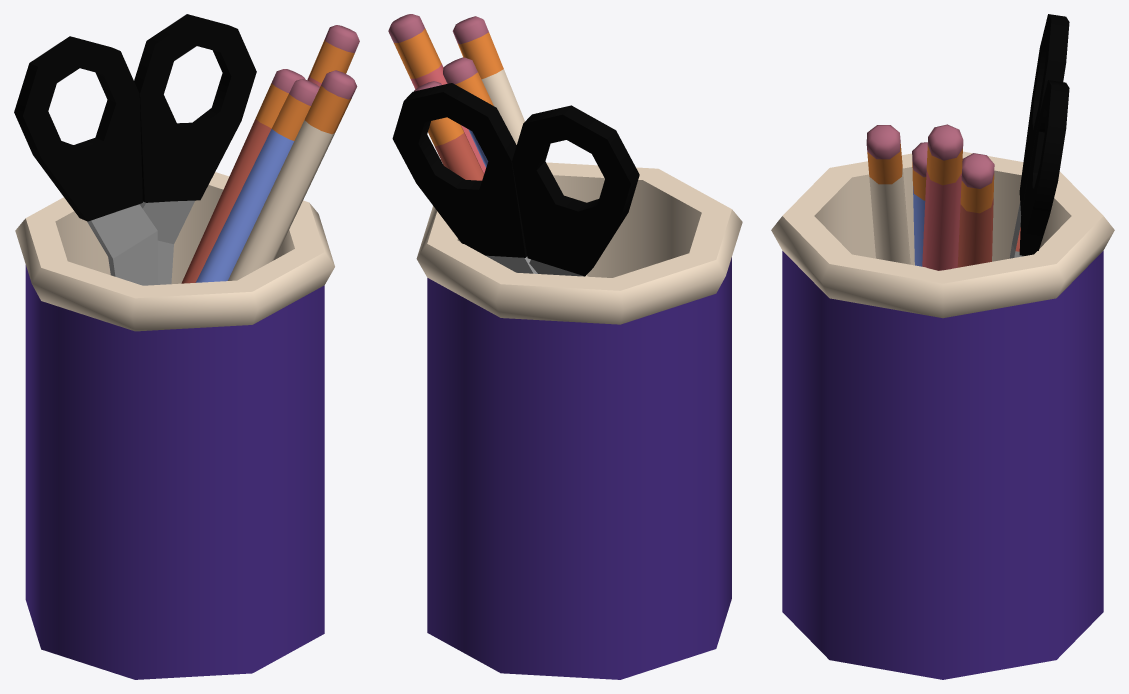
Rendered from pencilcase_full.fbx.
The picture shows the model from 3 angles, left to right: view 1: azimuth 30°, elevation 25°; view 2: azimuth 150°, elevation 25°; view 3: azimuth 270°, elevation 25°; orthographic projection. The views are drawn at different scales.
Visible parts, largest first — view 1: pencilcase_full; view 2: pencilcase_full; view 3: pencilcase_full.
Boxes of the visible parts, left/top/right/bottom form: pencilcase_full: left=14, top=14, right=359, bottom=679; pencilcase_full: left=388, top=14, right=742, bottom=679; pencilcase_full: left=771, top=14, right=1114, bottom=679.
Bounding box in the file's own units: 8.94 × 14.34 × 7.83.
